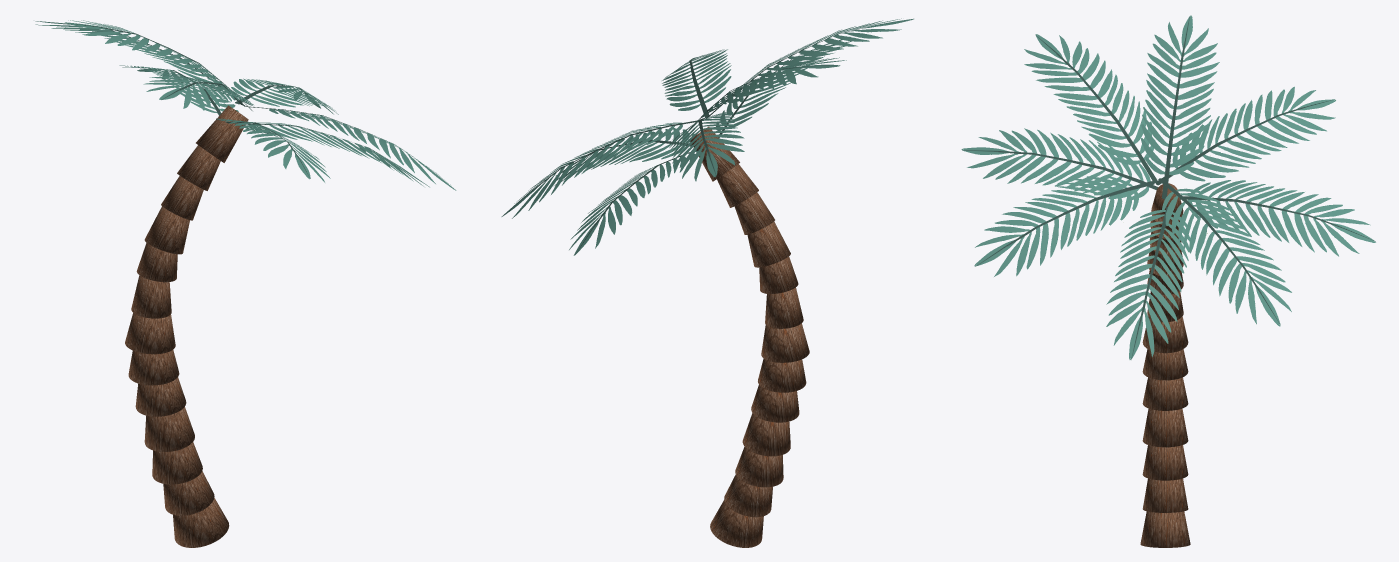
The model's file is Palma_Gora.fbx.
3 views of the same model, side by side, from view 1: azimuth 30°, elevation 25°; view 2: azimuth 150°, elevation 25°; view 3: azimuth 270°, elevation 25° (orthographic). The views are drawn at different scales.
Visible parts, largest first — view 1: GORA_PALMY; view 2: GORA_PALMY; view 3: GORA_PALMY.
Boxes of the visible parts, x1=… form: GORA_PALMY: x1=35, y1=20, x2=456, y2=547; GORA_PALMY: x1=501, y1=18, x2=913, y2=547; GORA_PALMY: x1=961, y1=15, x2=1375, y2=547.
Size of the model in its own units: 374 by 545 by 445.
1 material, 1 textured.
